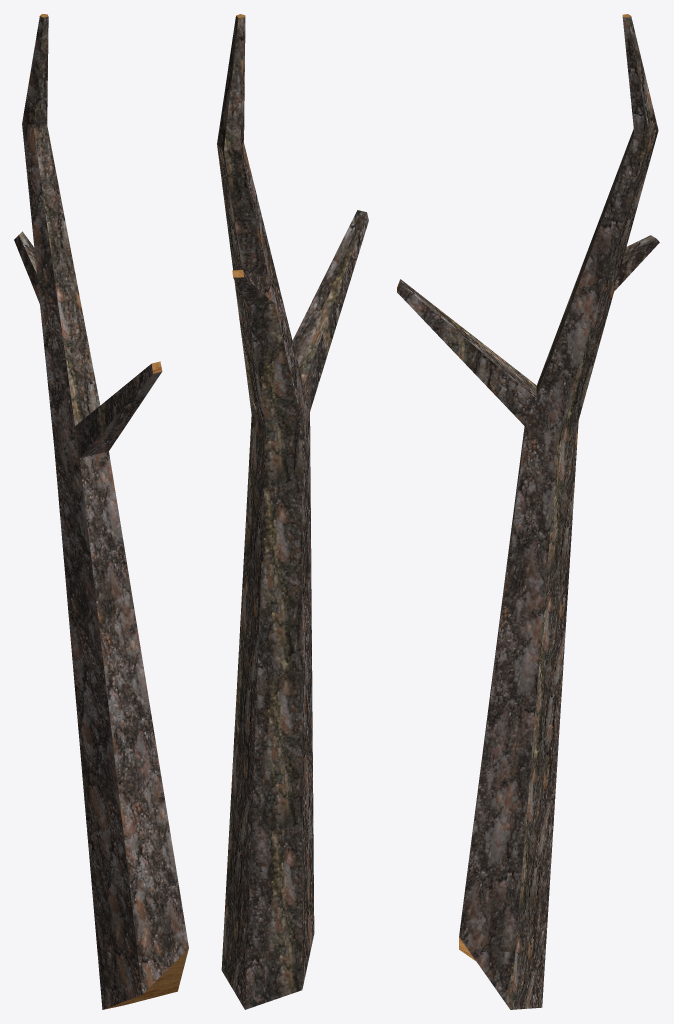
The model's file is twig_item_model.obj.
3 views of the same model, side by side, from view 1: azimuth 30°, elevation 25°; view 2: azimuth 150°, elevation 25°; view 3: azimuth 270°, elevation 25° (orthographic). The views are drawn at different scales.
Parts seen in each view (by area): view 1: Cylinder; view 2: Cylinder; view 3: Cylinder.
Part boxes in pixels (<box>): Cylinder: <box>14,14,188,1009</box>; Cylinder: <box>217,14,368,1009</box>; Cylinder: <box>397,14,659,1009</box>.
Bounding box in the file's own units: 0.0608 × 0.5653 × 0.1384.
